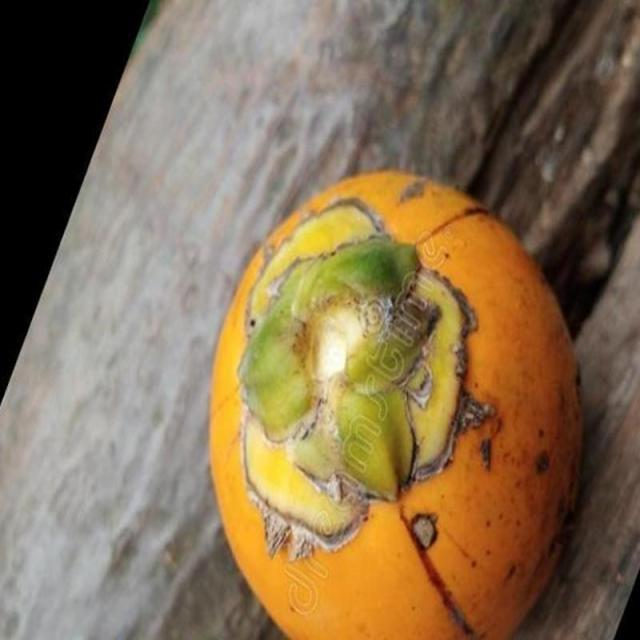good: (209, 166, 586, 639)
